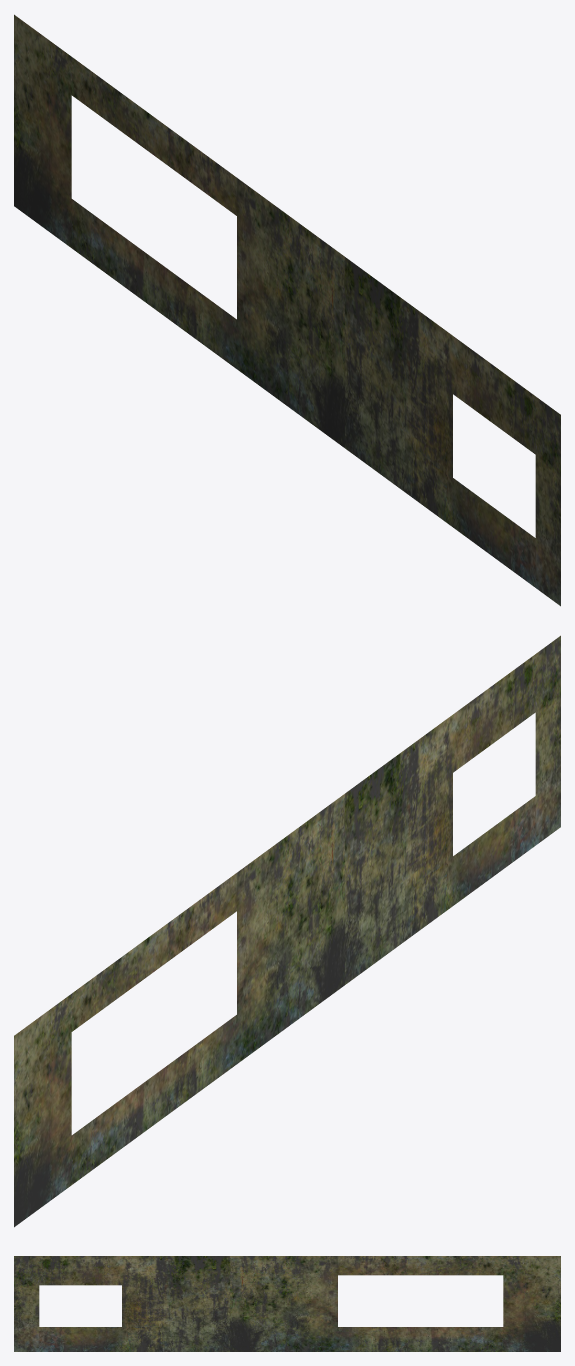
The model's file is Wall_10.FBX.
The picture shows the model from 3 angles, top to bottom: view 1: azimuth 30°, elevation 25°; view 2: azimuth 150°, elevation 25°; view 3: azimuth 270°, elevation 25°; orthographic projection. The views are drawn at different scales.
Visible parts, largest first — view 1: Wall_10; view 2: Wall_10; view 3: Wall_10.
Boxes of the visible parts, box(x1,y1,x2,y2) form: Wall_10: box(14, 14, 560, 606); Wall_10: box(14, 635, 560, 1227); Wall_10: box(14, 1256, 560, 1351).
Bounding box in the file's own units: 0.0107 × 320 × 1655.
